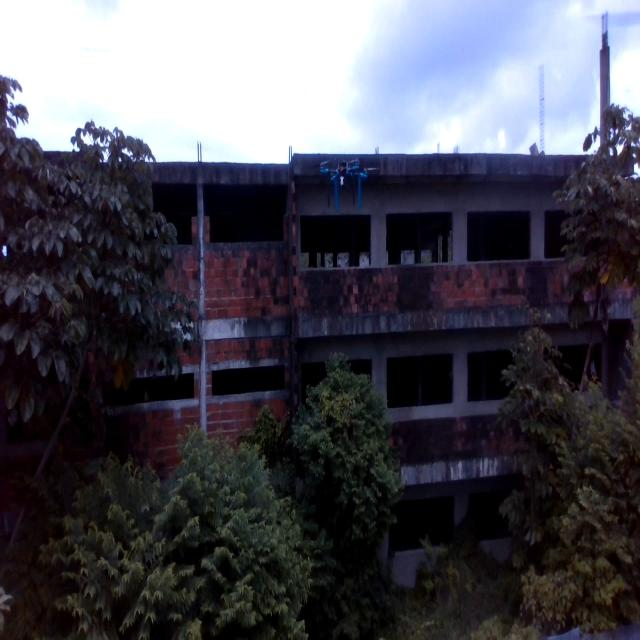-uav-: (308, 144, 382, 218)
